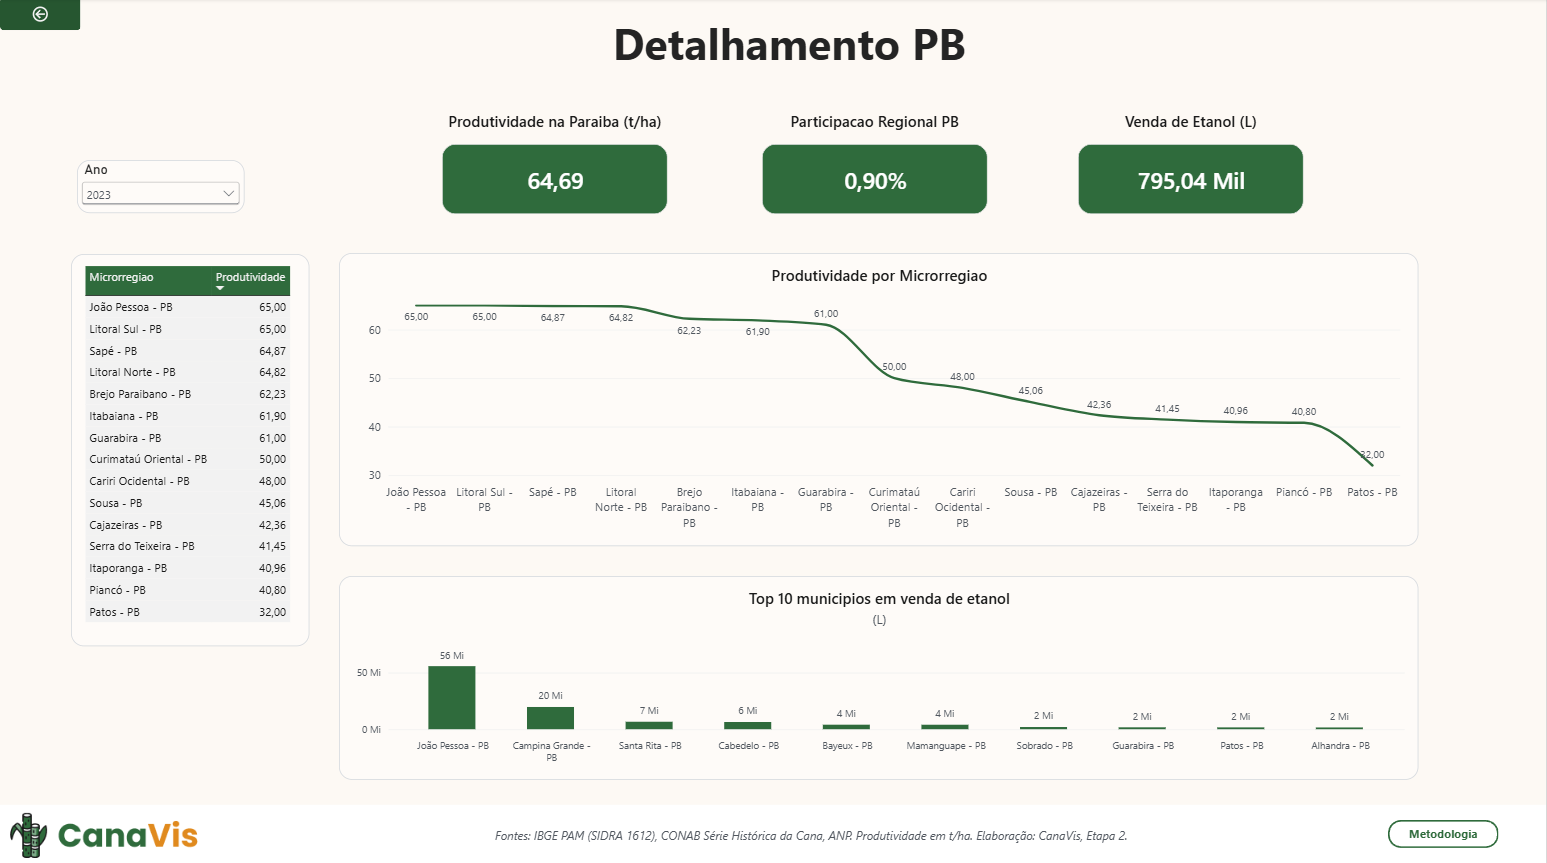

The page's visual inventory and layout, read from the dashboard file:
{"tool":"powerbi","page":{"name":"Detalhe Municipios/Microregioes PB","canvas":[1920,1080],"ordinal":2},"visuals":[{"type":"textbox","box":[200.5,18.8,1559.8,97.1],"z":0},{"type":"tableEx","fields":{"Values":["dim_territorio.nome_territorio","fato_producao.Produtividade"]},"box":[88,317.3,296,486.7],"z":1000},{"type":"cardVisual","title":"Produtividade na Paraiba (t/ha)","fields":{"Data":["fato_producao_uf.Produtividade (UF)"]},"box":[549.2,140.4,280.1,128.4],"z":2000},{"type":"cardVisual","title":"Participacao Regional PB","fields":{"Data":["fato_producao.Participação regional"]},"box":[946,140.4,280.1,128.4],"z":3000},{"type":"cardVisual","title":"Venda de Etanol (L)","fields":{"Data":["Avg(fato_vendas_etanol_municipio.vendas_etanol_hidratado_l)"]},"box":[1338.5,140.4,280.1,128.4],"z":4000},{"type":"lineChart","title":"Produtividade por Microrregiao","fields":{"Category":["dim_territorio.nome_territorio"],"Y":["fato_producao.Produtividade"]},"box":[420.4,317.1,1339.8,363.8],"z":5000},{"type":"actionButton","box":[0,0,100,40],"z":6000},{"type":"clusteredColumnChart","title":"Top 10 municipios em venda de etanol","fields":{"Category":["dim_territorio.nome_territorio"],"Y":["fato_vendas_etanol_municipio.Vendas etanol municípios validados (L)"]},"box":[420.4,717.8,1339.8,253.2],"z":7000},{"type":"textbox","box":[614.2,1028.6,818.5,30.6],"z":8000},{"type":"actionButton","box":[1722.7,1020,137.3,34.7],"z":9000},{"type":"slicer","fields":{"Values":["dim_calendario.ano"]},"box":[96,201.3,207.6,66.2],"z":10000}]}

Visuals, with their boxes in screenshot pixels (x1, y1, x2, y2), scaled from the page's 1920x1080 canvas onto the 1547x863 screenshot:
textbox: 162 15 1418 93
tableEx - dim_territorio.nome_territorio x fato_producao.Produtividade: 71 254 309 642
"Produtividade na Paraiba (t/ha)" cardVisual: 443 112 668 215
"Participacao Regional PB" cardVisual: 762 112 988 215
"Venda de Etanol (L)" cardVisual: 1078 112 1304 215
"Produtividade por Microrregiao" lineChart: 339 253 1418 544
actionButton: 0 0 81 32
"Top 10 municipios em venda de etanol" clusteredColumnChart: 339 574 1418 776
textbox: 495 822 1154 846
actionButton: 1388 815 1499 843
slicer - dim_calendario.ano: 77 161 245 214
